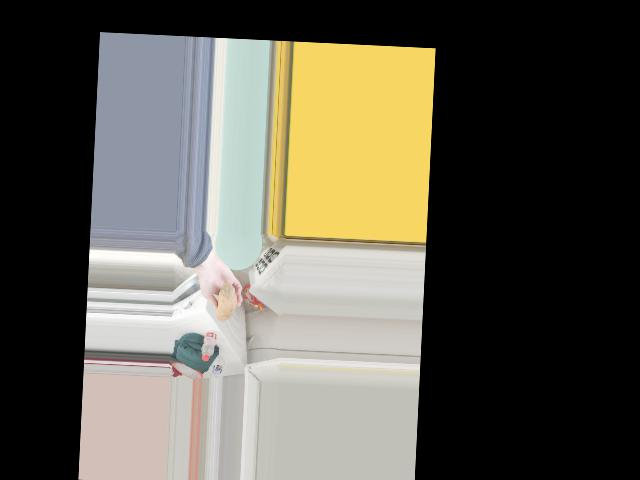sweet_potato: (213, 276, 235, 324)
